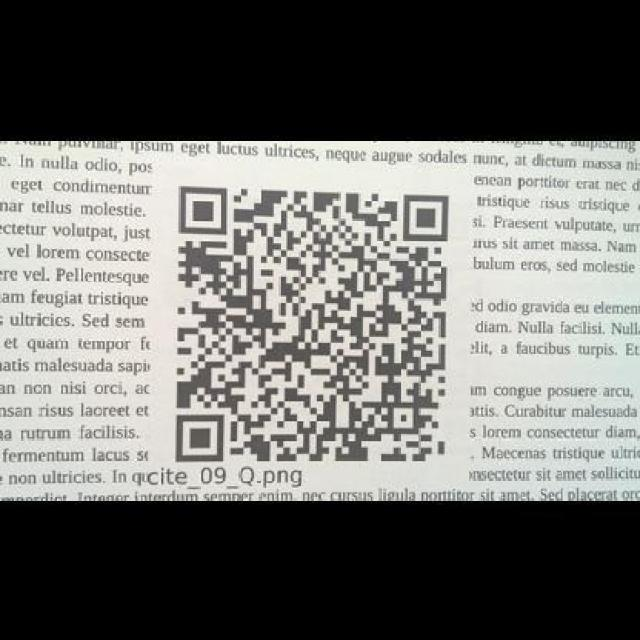QRCode: (180, 186, 450, 465)
